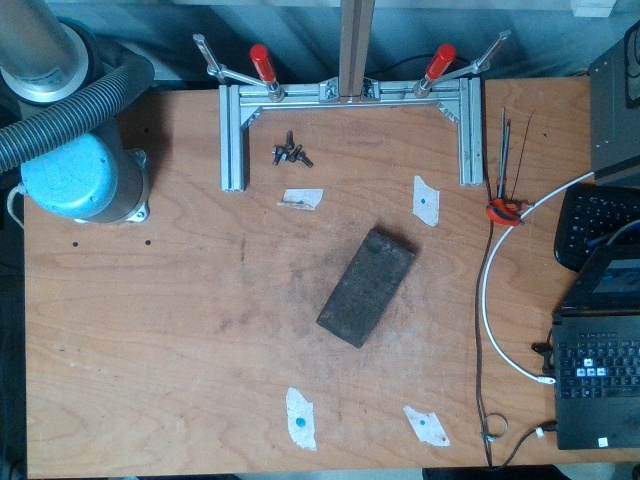brick: (316, 227, 415, 347)
